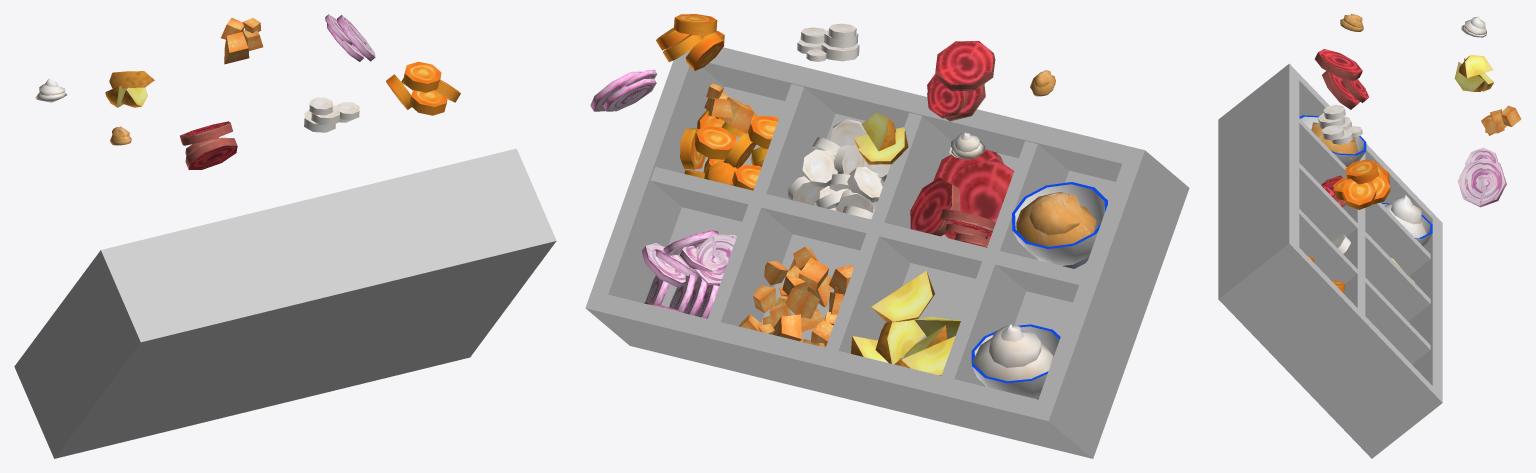
File: ingridient_tray.fbx
3 views of the same model, side by side, from view 1: azimuth 30°, elevation 25°; view 2: azimuth 150°, elevation 25°; view 3: azimuth 270°, elevation 25° (orthographic). The views are drawn at different scales.
Visible parts, largest first — view 1: pCube69, pCylinder30, pCylinder100, pCylinder99, pCube68, pCylinder101, pCylinder102; view 2: pCube69, pCylinder100, pCylinder30, pCylinder99, pCylinder101, pCylinder102, pCube68, polySurface64; view 3: pCube69, pCylinder102, pCylinder30, pCylinder100, pCylinder99, pCylinder101, pCube68, polySurface64, polySurface61.
Part boxes in pixels (x1=…): pCube69: x1=14, y1=148, x2=556, y2=458; pCylinder30: x1=386, y1=61, x2=460, y2=115; pCylinder100: x1=180, y1=121, x2=237, y2=169; pCylinder99: x1=304, y1=97, x2=359, y2=132; pCube68: x1=221, y1=18, x2=263, y2=64; pCylinder101: x1=105, y1=71, x2=154, y2=107; pCylinder102: x1=325, y1=14, x2=375, y2=61; pCube69: x1=585, y1=47, x2=1189, y2=458; pCylinder100: x1=927, y1=41, x2=995, y2=121; pCylinder30: x1=656, y1=14, x2=724, y2=70; pCylinder99: x1=797, y1=23, x2=859, y2=61; pCylinder101: x1=853, y1=112, x2=908, y2=164; pCylinder102: x1=590, y1=69, x2=656, y2=111; pCube68: x1=704, y1=83, x2=753, y2=133; polySurface64: x1=949, y1=132, x2=985, y2=159; pCube69: x1=1218, y1=63, x2=1442, y2=458; pCylinder102: x1=1457, y1=147, x2=1506, y2=207; pCylinder30: x1=1333, y1=159, x2=1390, y2=209; pCylinder100: x1=1315, y1=49, x2=1368, y2=109; pCylinder99: x1=1318, y1=105, x2=1362, y2=144; pCylinder101: x1=1454, y1=55, x2=1493, y2=91; pCube68: x1=1481, y1=105, x2=1521, y2=135; polySurface64: x1=1461, y1=16, x2=1486, y2=37; polySurface61: x1=1340, y1=14, x2=1363, y2=31.
Size of the model in its own units: 1.12 by 0.8413 by 0.8007.
